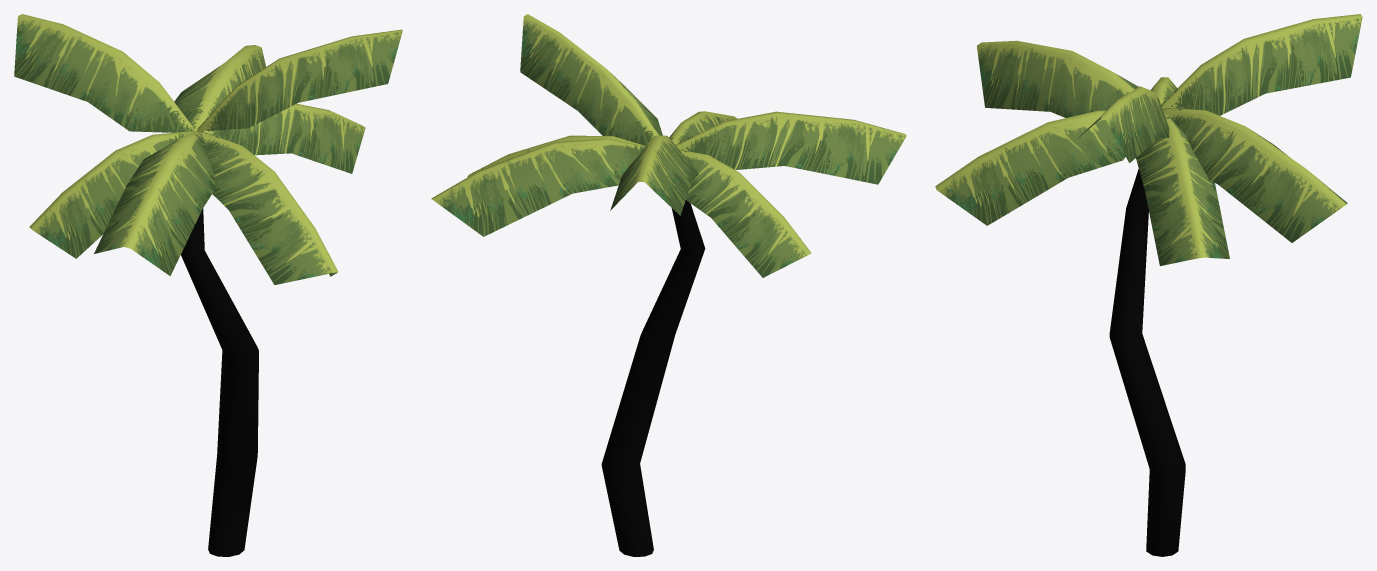
The model's file is V_Palmtree.FBX.
3 renders of one model, left to right at view 1: azimuth 30°, elevation 25°; view 2: azimuth 150°, elevation 25°; view 3: azimuth 270°, elevation 25°, orthographic. The views are drawn at different scales.
Parts seen in each view (by area): view 1: palmtree; view 2: palmtree; view 3: palmtree.
Boxes of the visible parts, box(x1,y1,x2,y2) form: palmtree: box(14, 14, 402, 556); palmtree: box(431, 14, 906, 556); palmtree: box(935, 14, 1362, 556).
Bounding box in the file's own units: 255 × 351 × 271.
